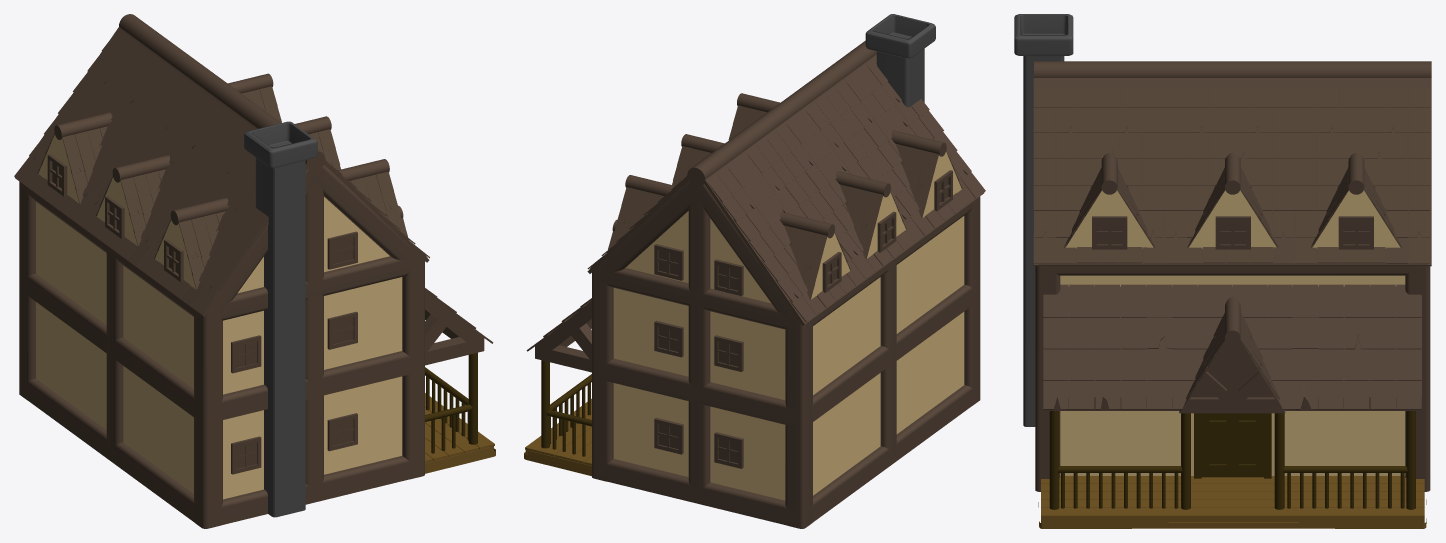
File: Inn.fbx
3 views of the same model, side by side, from view 1: azimuth 30°, elevation 25°; view 2: azimuth 150°, elevation 25°; view 3: azimuth 270°, elevation 25° (orthographic). The views are drawn at different scales.
Visible parts, largest first — view 1: pCube1, pCube232, pCube2, pCube190, pCube219, pCube189, pCube208, pCube234, pCube207, pCylinder4, pCube235, pCube220 (+27 smaller); view 2: pCube1, pCube232, pCube218, pCube188, pCube209, pCube233, pCube208, pCube234, pCube2, pCylinder4, pCube214, pCube187 (+29 smaller); view 3: pCube230, pCube181, pCube1, pCube2, pCylinder4, pCube183, pCube206, pCube202, pCube216, pCube187, pCube189, pCube198 (+39 smaller).
Boxes of the visible parts, x1,y1,x2,y2 form: pCube1: [36, 197, 402, 499]; pCube232: [14, 29, 306, 313]; pCube2: [244, 121, 317, 517]; pCube190: [194, 295, 222, 528]; pCube219: [305, 179, 323, 494]; pCube189: [402, 246, 424, 479]; pCube208: [27, 378, 194, 522]; pCube234: [27, 273, 194, 417]; pCube207: [220, 456, 410, 525]; pCylinder4: [119, 14, 325, 171]; pCube235: [220, 351, 410, 420]; pCube220: [106, 246, 123, 456]; pCube1: [613, 211, 964, 500]; pCube232: [707, 57, 985, 322]; pCube218: [688, 195, 710, 488]; pCube188: [785, 319, 812, 528]; pCube209: [599, 459, 794, 527]; pCube233: [599, 358, 794, 426]; pCube208: [812, 385, 977, 522]; pCube234: [812, 284, 972, 421]; pCube2: [865, 14, 935, 107]; pCylinder4: [687, 40, 876, 186]; pCube214: [599, 268, 793, 329]; pCube187: [592, 258, 613, 481]; pCube230: [1033, 78, 1430, 263]; pCube181: [1043, 284, 1421, 409]; pCube1: [1060, 275, 1405, 475]; pCube2: [1014, 14, 1073, 426]; pCylinder4: [1034, 61, 1431, 77]; pCube183: [1034, 78, 1431, 266]; pCube206: [1201, 413, 1263, 477]; pCube202: [1041, 508, 1424, 517]; pCube216: [1049, 266, 1416, 275]; pCube187: [1405, 266, 1430, 491]; pCube189: [1035, 266, 1060, 491]; pCube198: [1038, 499, 1426, 528].
Bounding box in the file's own units: 14.49 × 17.21 × 16.56.
